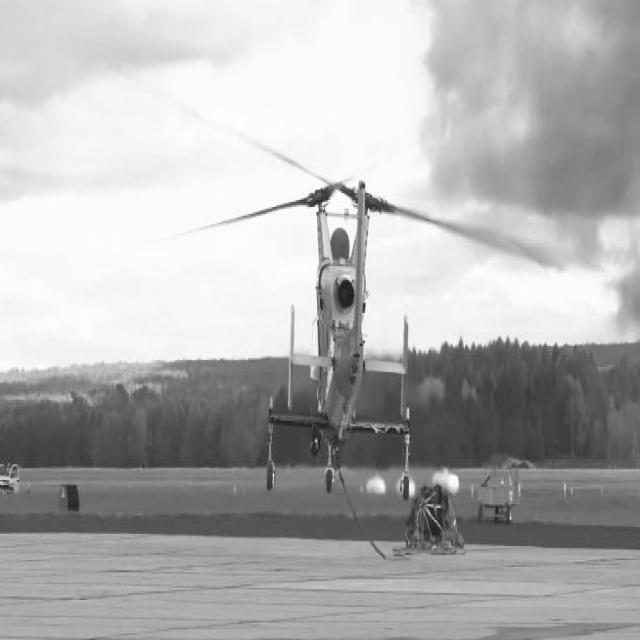helicopter: (230, 146, 441, 499)
